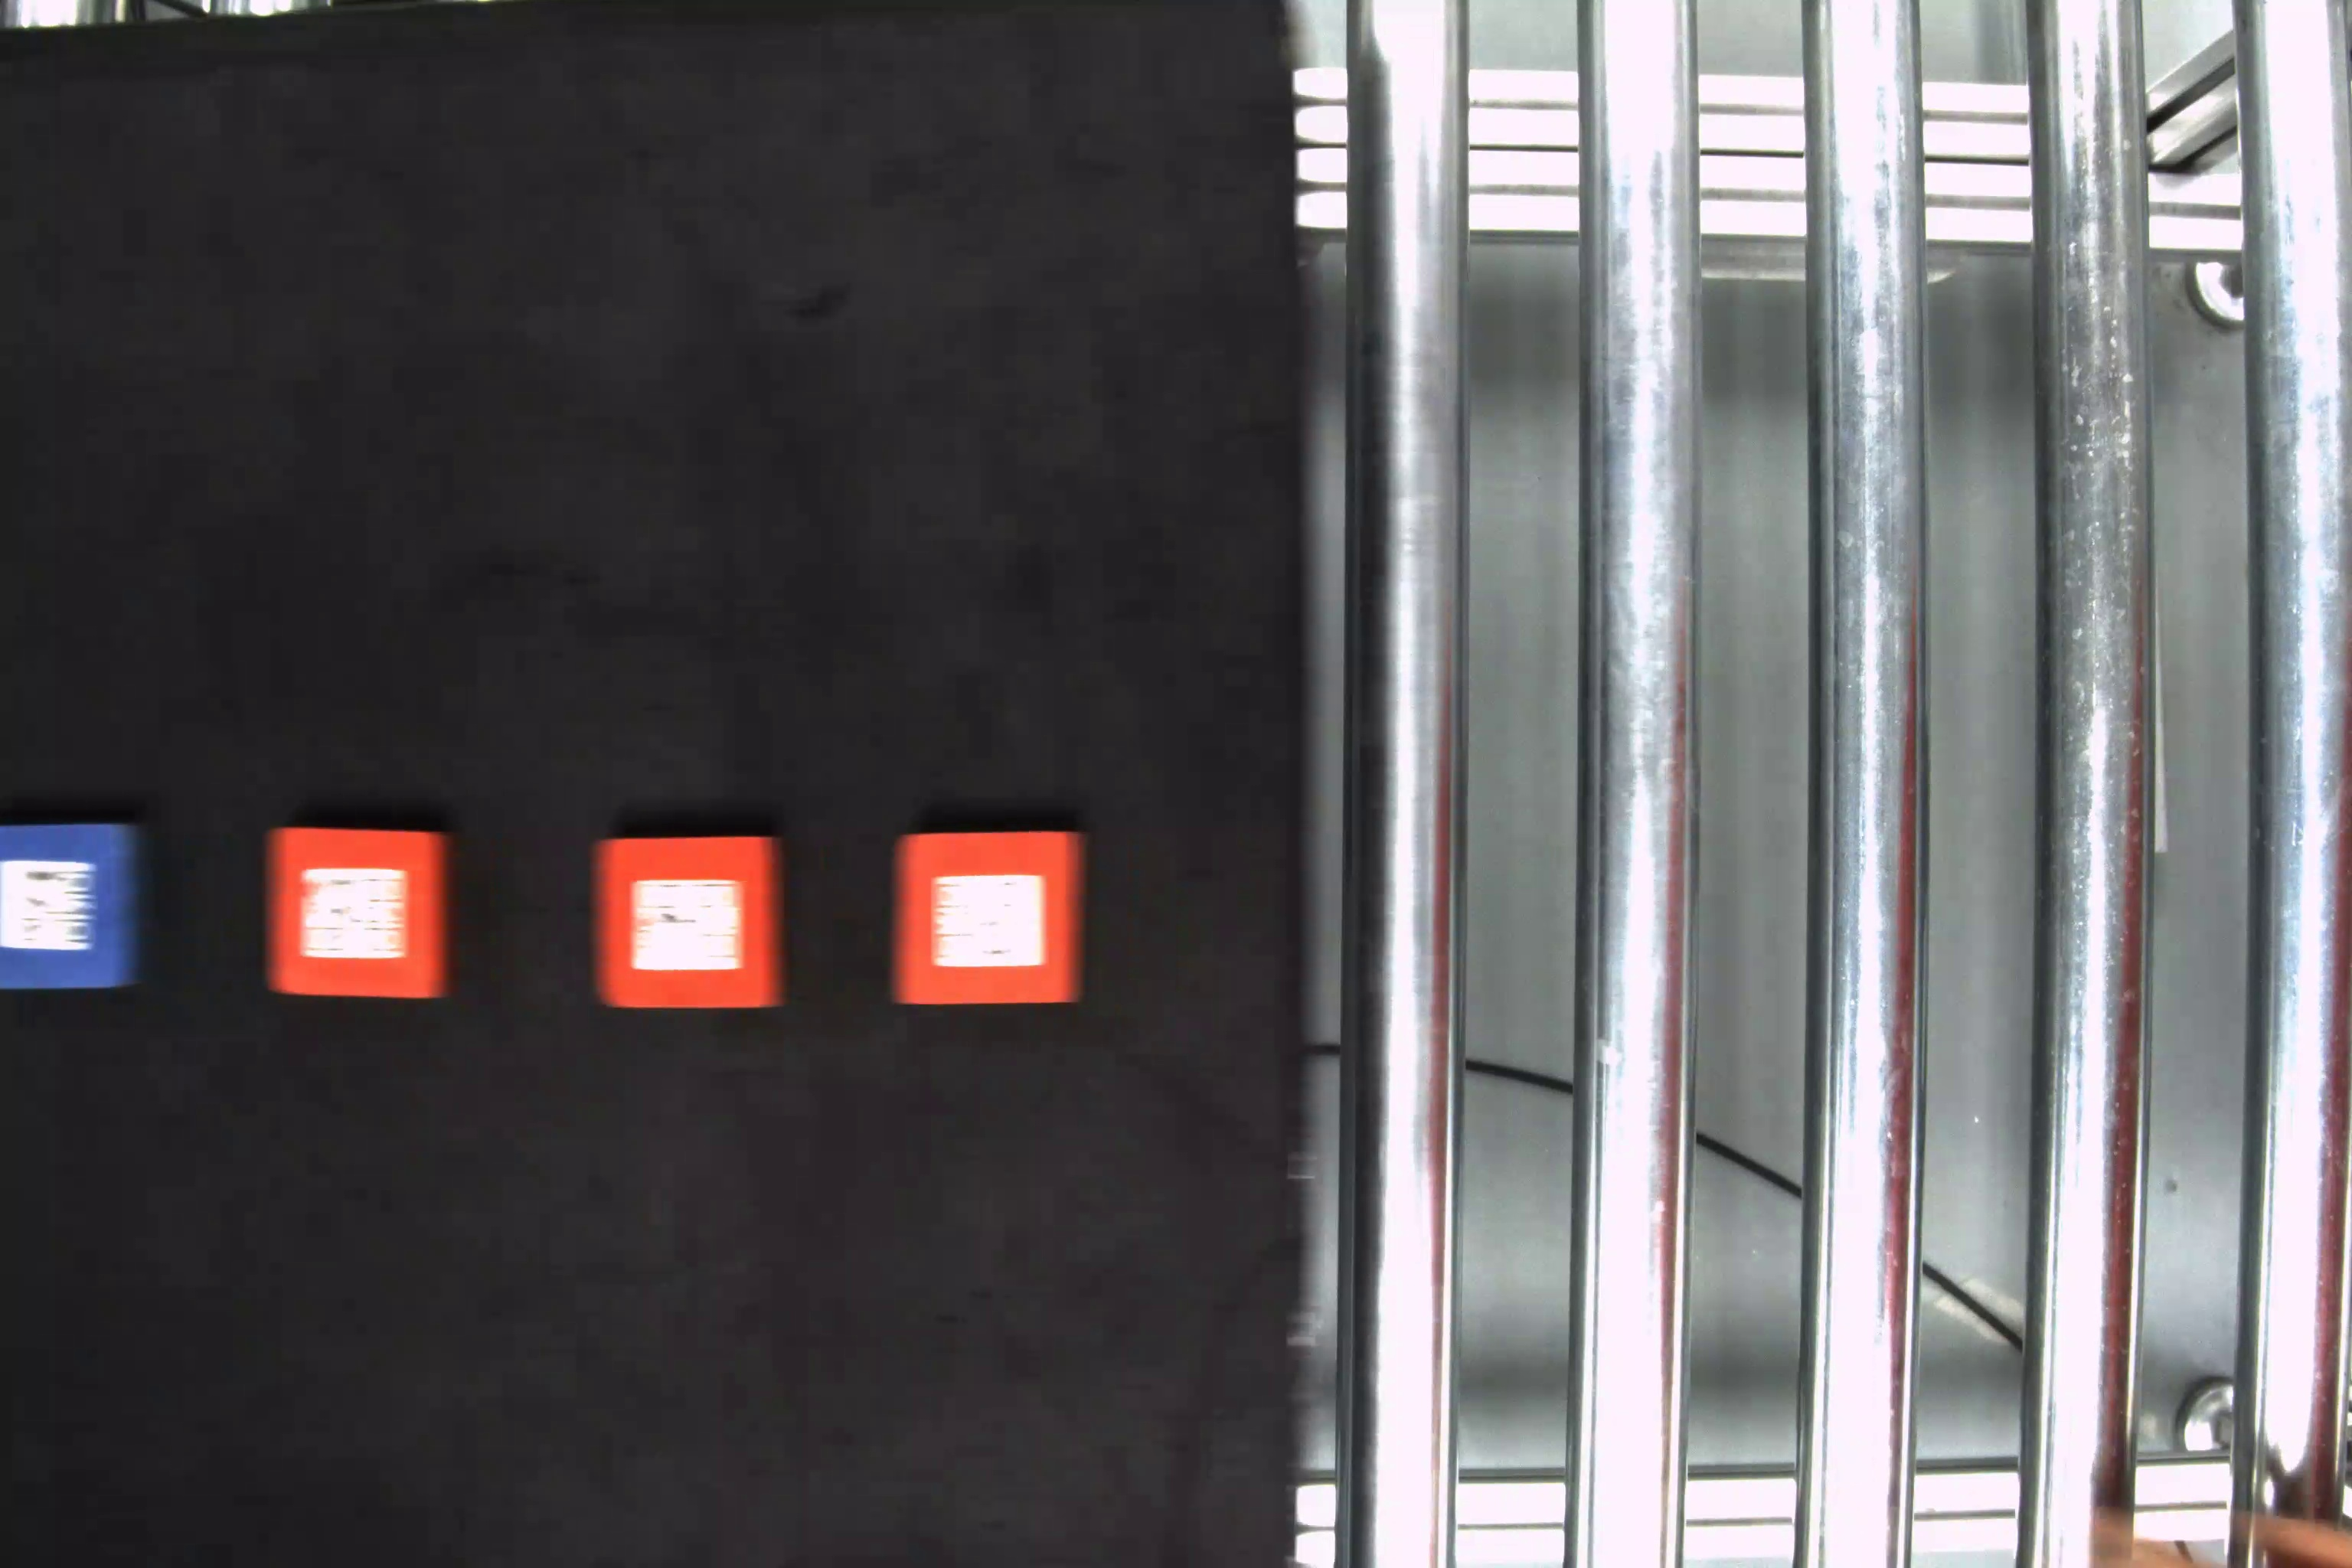wood: (264, 819, 462, 1008), (593, 835, 794, 1018), (887, 828, 1081, 1004), (3, 815, 152, 996)
